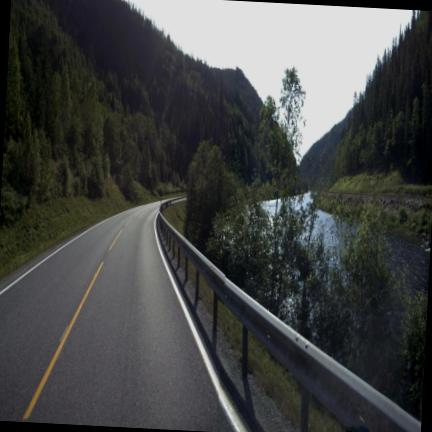Road: (0, 203, 231, 430)
